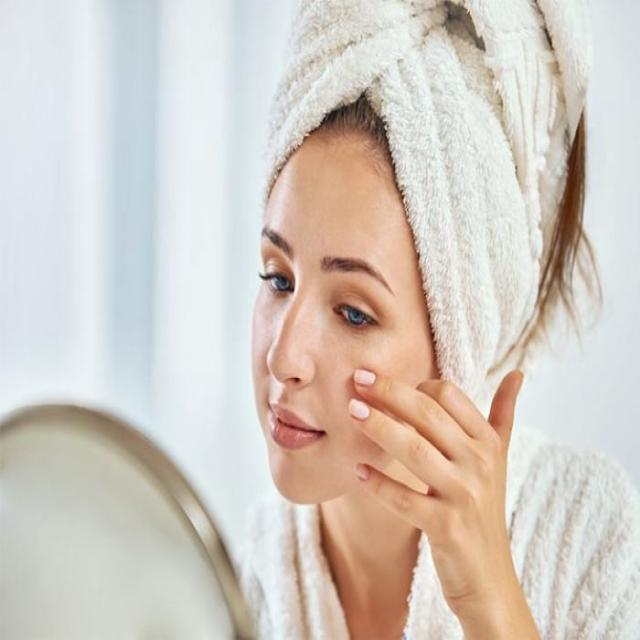Oily-Skin: (370, 182, 400, 278), (296, 283, 324, 344), (275, 153, 293, 237)
